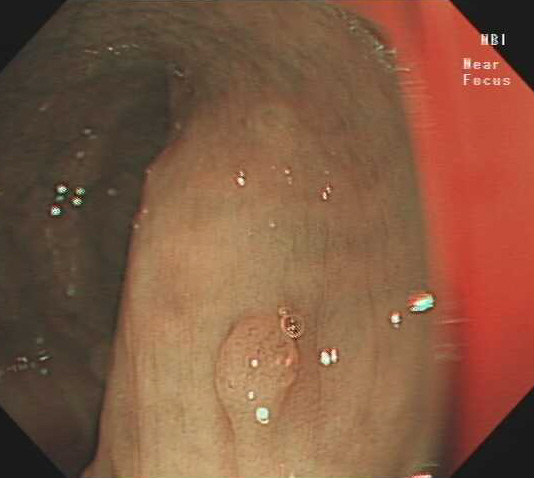others: (212, 313, 302, 435)
